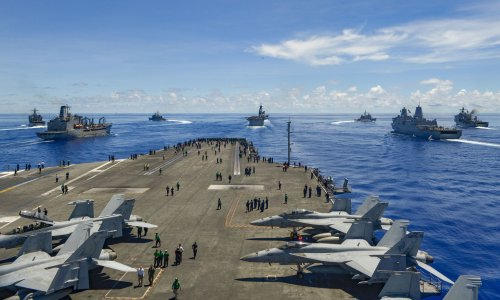Ship: (0, 138, 480, 298), (44, 103, 112, 139), (393, 105, 461, 138), (456, 108, 486, 129), (247, 104, 268, 125), (27, 107, 43, 124), (358, 113, 377, 121), (150, 111, 165, 120)
